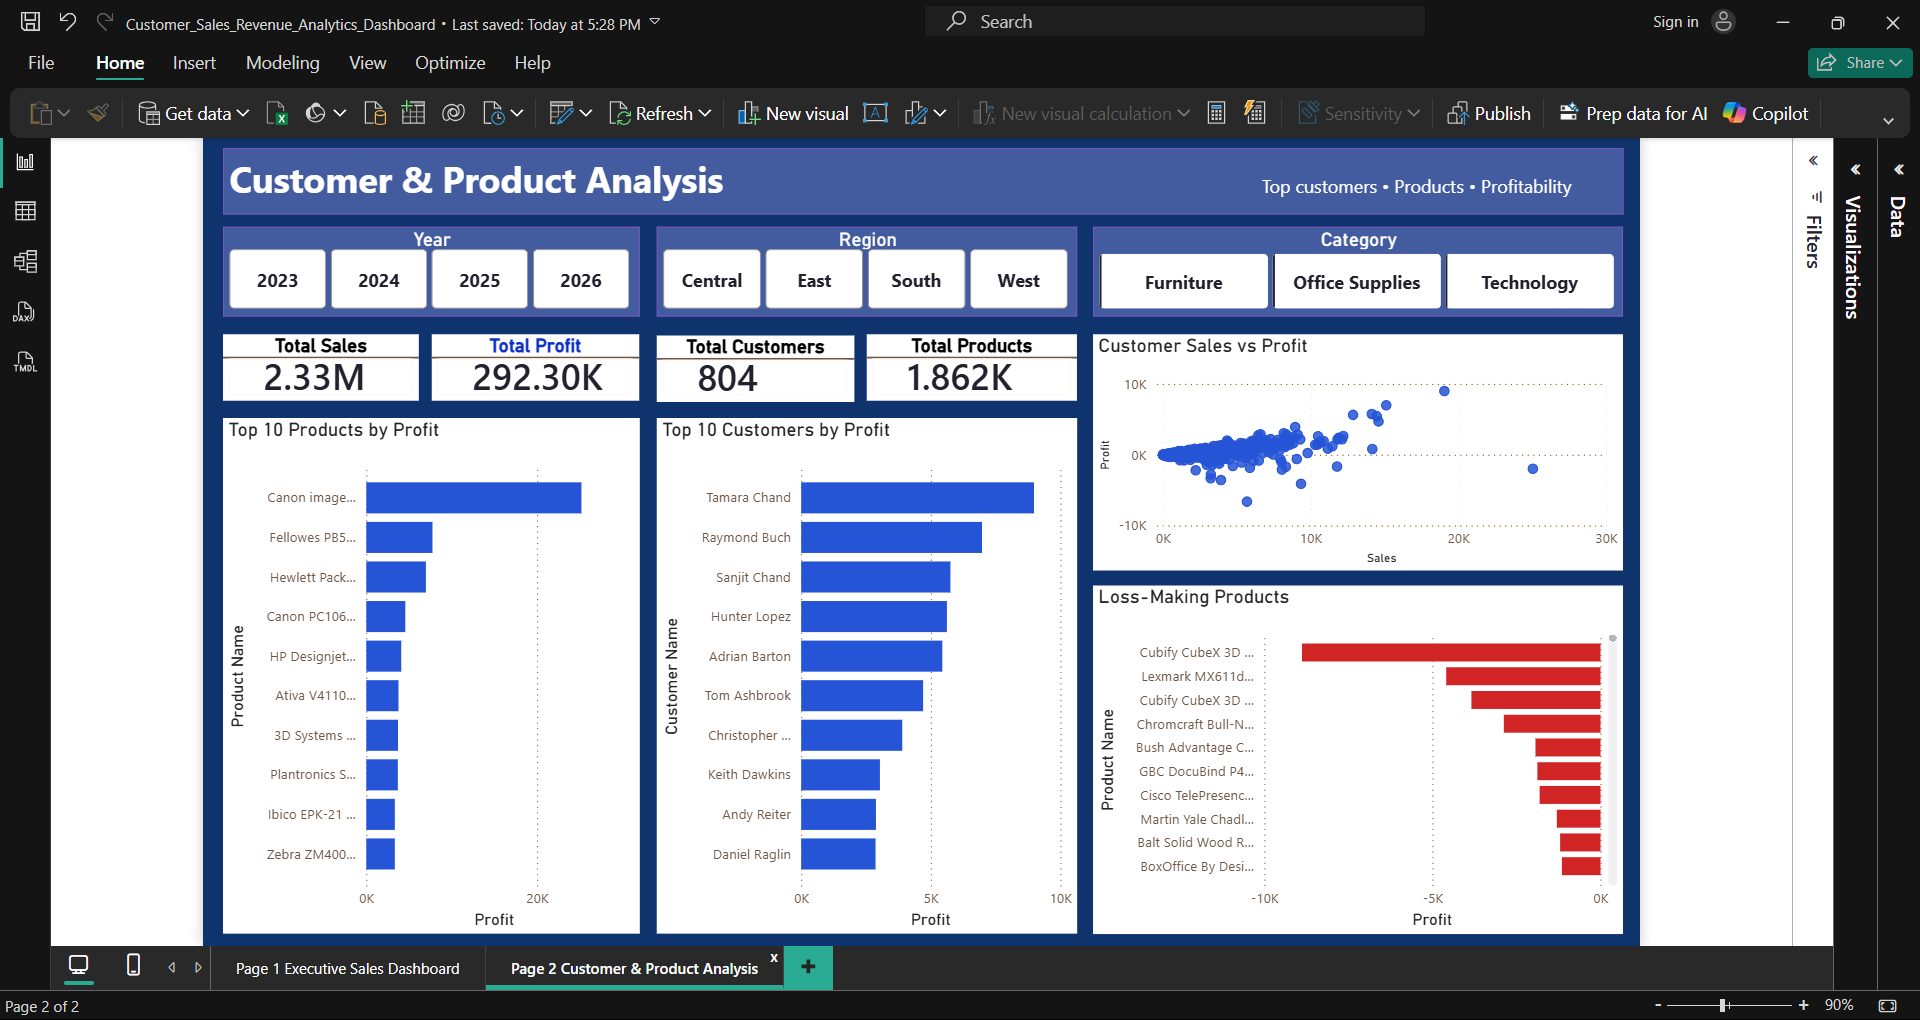

Layout of this report page (visuals, bound fields, positions):
{"tool":"powerbi","page":{"name":"Page 2 Customer & Product Analysis","canvas":[1280,720],"ordinal":1},"visuals":[{"type":"textbox","box":[17.7,8.9,1246.8,59.5],"z":0},{"type":"clusteredBarChart","title":"Top 10 Customers by Profit","fields":{"Category":["Customer_Sales_Revenue_Final.Customer Name"],"Y":["Sum(Customer_Sales_Revenue_Final.Profit)"]},"box":[403.8,249.4,374.7,459.5],"z":1000},{"type":"clusteredBarChart","title":"Top 10 Products by Profit","fields":{"Category":["Customer_Sales_Revenue_Final.Product Name"],"Y":["Sum(Customer_Sales_Revenue_Final.Profit)"]},"box":[17.7,249.4,370.9,459.5],"z":2000},{"type":"clusteredBarChart","title":"Loss-Making Products","fields":{"Category":["Customer_Sales_Revenue_Final.Product Name"],"Y":["Sum(Customer_Sales_Revenue_Final.Profit)"]},"box":[792.4,398.7,472.2,310.1],"z":3000},{"type":"scatterChart","title":"Customer Sales vs Profit","fields":{"Category":["Customer_Sales_Revenue_Final.Customer Name"],"X":["Sum(Customer_Sales_Revenue_Final.Sales)"],"Y":["Sum(Customer_Sales_Revenue_Final.Profit)"]},"box":[792.4,174.7,472.2,210.1],"z":4000},{"type":"cardVisual","title":"Total Customers","fields":{"Data":["Count(Customer_Sales_Revenue_Final.Customer ID)"]},"box":[403.8,175.9,175.9,59.5],"z":5000},{"type":"cardVisual","title":"Total Products","fields":{"Data":["Count(Customer_Sales_Revenue_Final.Product ID)"]},"box":[591.1,174.7,187.3,59.5],"z":6000},{"type":"cardVisual","title":"Total Sales","fields":{"Data":["Sum(Customer_Sales_Revenue_Final.Sales)"]},"box":[17.7,174.7,174.7,59.5],"z":7000},{"type":"cardVisual","title":"Total Profit","fields":{"Data":["Sum(Customer_Sales_Revenue_Final.Profit)"]},"box":[203.8,174.7,184.8,59.5],"z":8000},{"type":"advancedSlicerVisual","title":"Region","fields":{"Values":["Customer_Sales_Revenue_Final.Region"]},"box":[403.8,78.5,374.7,79.7],"z":9000},{"type":"advancedSlicerVisual","fields":{"Values":["Customer_Sales_Revenue_Final.Category"]},"box":[792.4,78.5,472.2,79.7],"z":10000},{"type":"advancedSlicerVisual","title":"Year","fields":{"Values":["Customer_Sales_Revenue_Final.Year"]},"box":[17.7,78.5,370.9,79.7],"z":11000}]}

Visuals, with their boxes on the page's 1280x720 design canvas (x1, y1, x2, y2). These are canvas units, not pixel positions in the 1920x1020 screenshot, which may show the page scaled, cropped or inside an application window:
textbox: {"left": 18, "top": 9, "right": 1264, "bottom": 68}
"Top 10 Customers by Profit" clusteredBarChart: {"left": 404, "top": 249, "right": 778, "bottom": 709}
"Top 10 Products by Profit" clusteredBarChart: {"left": 18, "top": 249, "right": 389, "bottom": 709}
"Loss-Making Products" clusteredBarChart: {"left": 792, "top": 399, "right": 1265, "bottom": 709}
"Customer Sales vs Profit" scatterChart: {"left": 792, "top": 175, "right": 1265, "bottom": 385}
"Total Customers" cardVisual: {"left": 404, "top": 176, "right": 580, "bottom": 235}
"Total Products" cardVisual: {"left": 591, "top": 175, "right": 778, "bottom": 234}
"Total Sales" cardVisual: {"left": 18, "top": 175, "right": 192, "bottom": 234}
"Total Profit" cardVisual: {"left": 204, "top": 175, "right": 389, "bottom": 234}
"Region" advancedSlicerVisual: {"left": 404, "top": 78, "right": 778, "bottom": 158}
advancedSlicerVisual - Customer_Sales_Revenue_Final.Category: {"left": 792, "top": 78, "right": 1265, "bottom": 158}
"Year" advancedSlicerVisual: {"left": 18, "top": 78, "right": 389, "bottom": 158}
